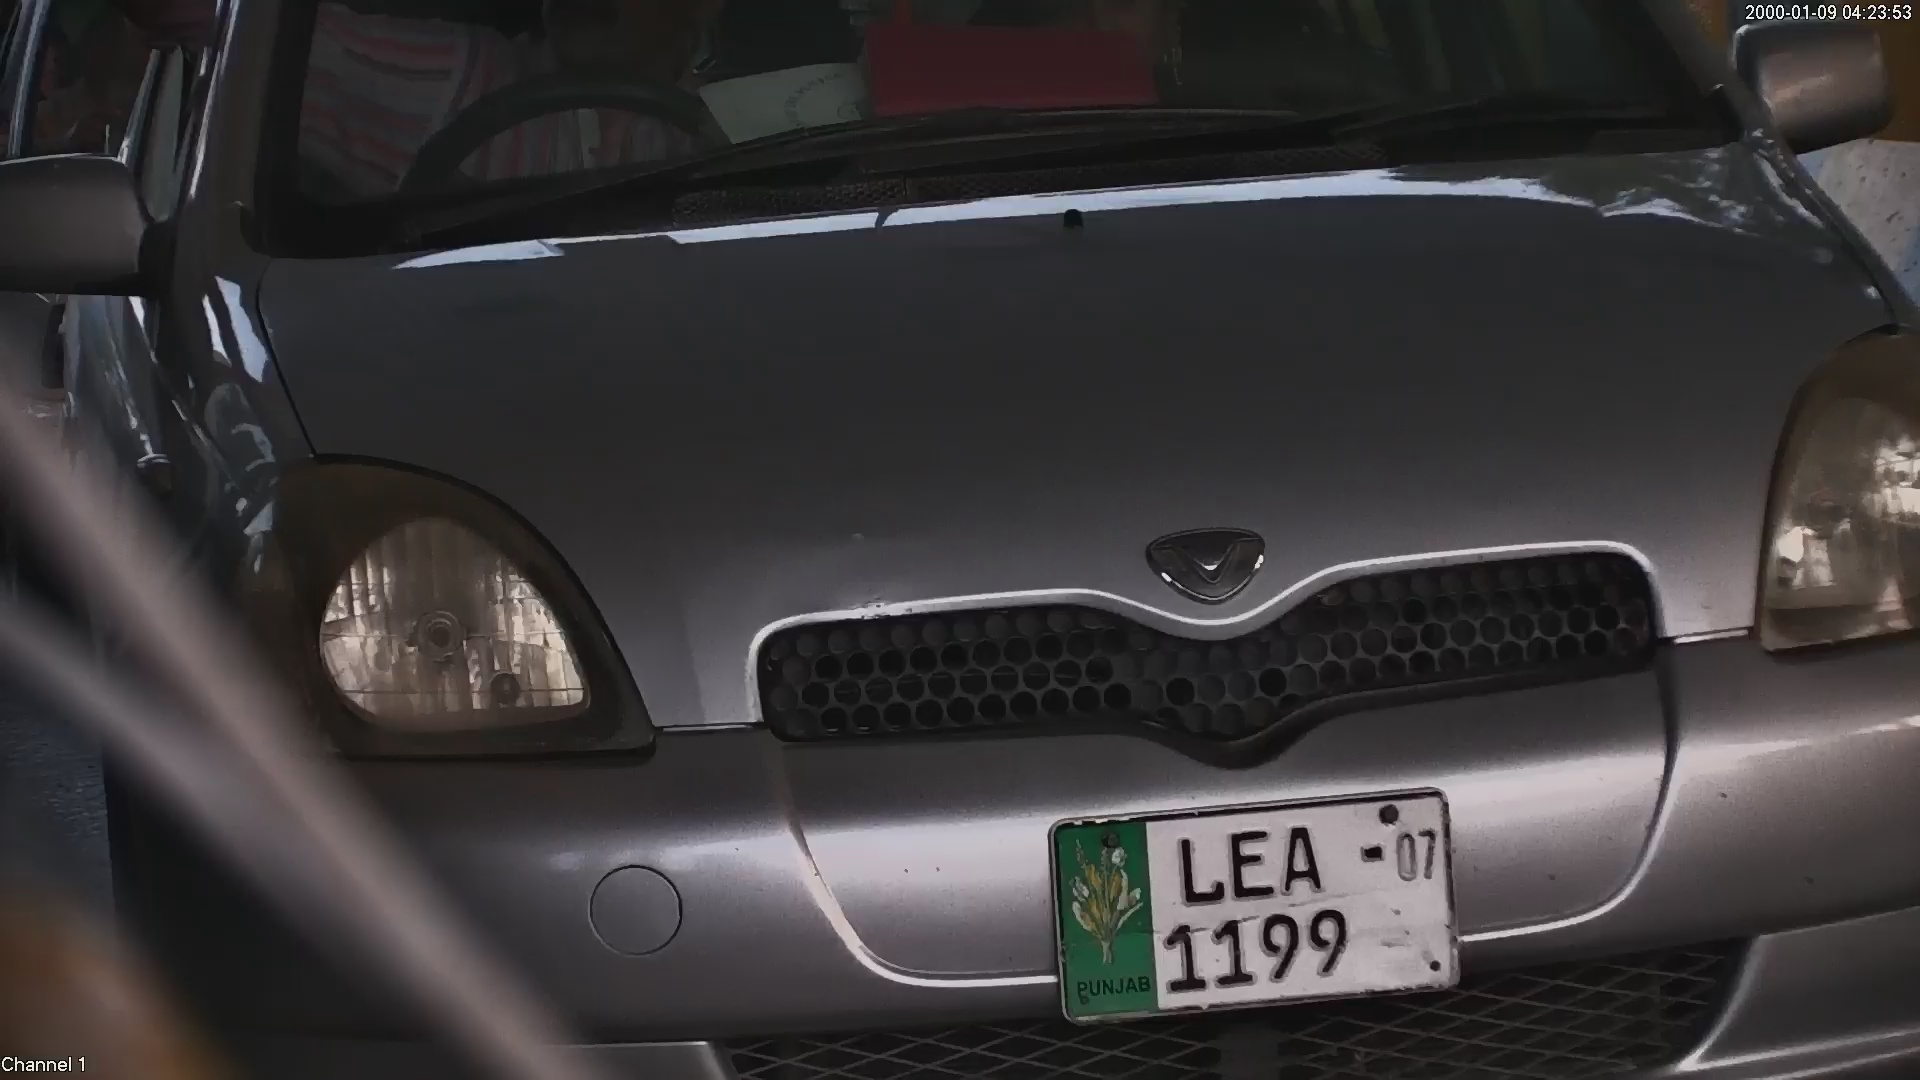Number_Plate: (1037, 786, 1469, 1025)
